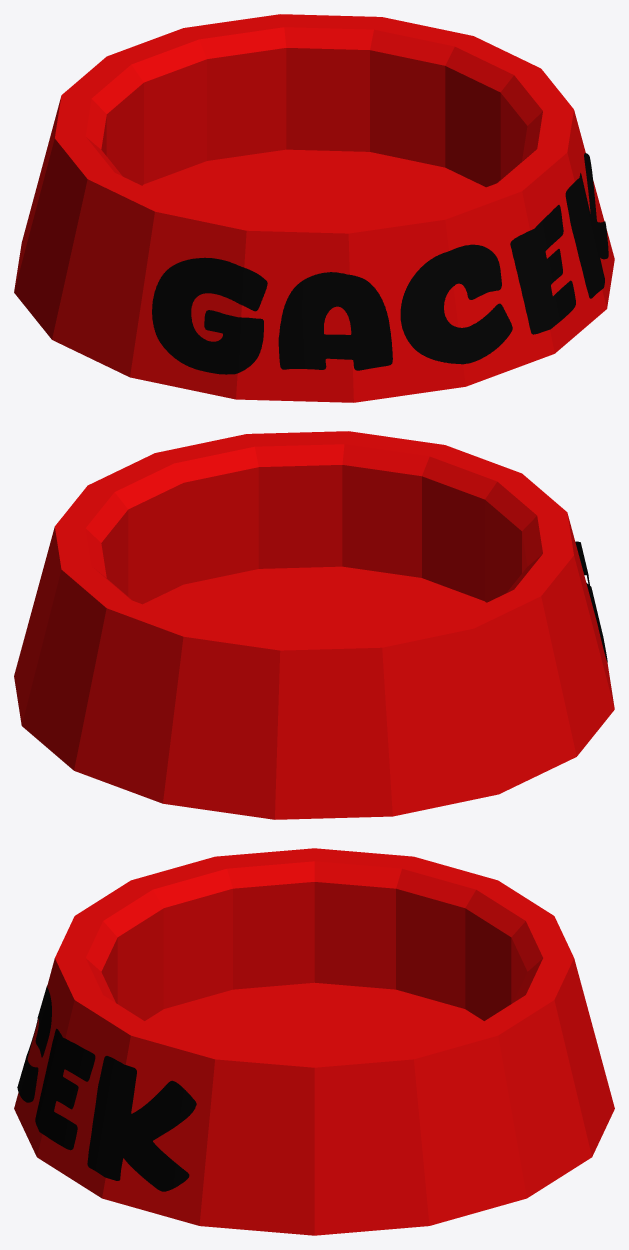
The model's file is mdl_poland_bowl.gltf.
3 views of the same model, one above another, from view 1: azimuth 30°, elevation 25°; view 2: azimuth 150°, elevation 25°; view 3: azimuth 270°, elevation 25° (orthographic).
Visible parts, largest first — view 1: Cylinder.011, Plane.004; view 2: Cylinder.011; view 3: Cylinder.011, Plane.004.
Part boxes in pixels (left/top/right/bottom): Cylinder.011: left=14, top=14, right=614, bottom=402; Plane.004: left=152, top=153, right=608, bottom=374; Cylinder.011: left=14, top=431, right=614, bottom=819; Cylinder.011: left=14, top=848, right=614, bottom=1235; Plane.004: left=17, top=986, right=196, bottom=1191.
Bounding box in the file's own units: 2 × 0.5535 × 2.
2 materials, 1 textured.
